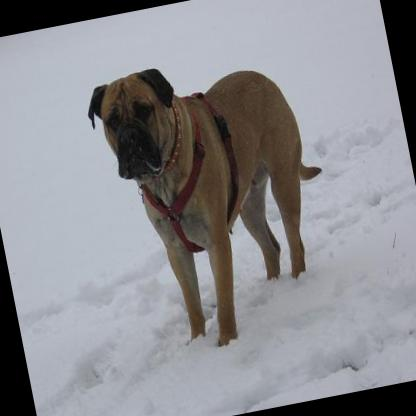bull_mastiff: (78, 39, 350, 361)
